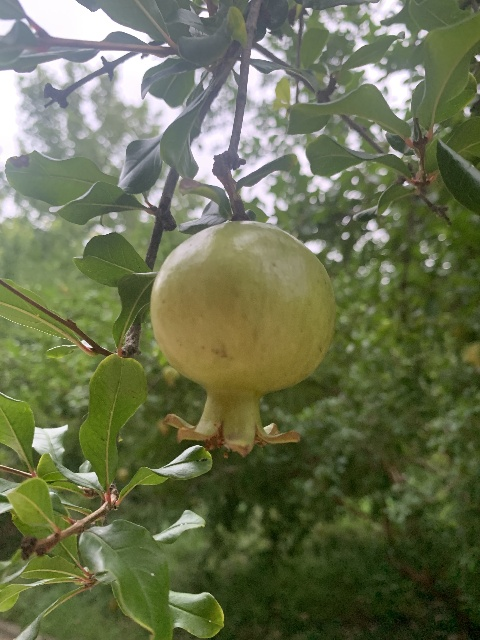mid-growth: (150, 221, 337, 458)
